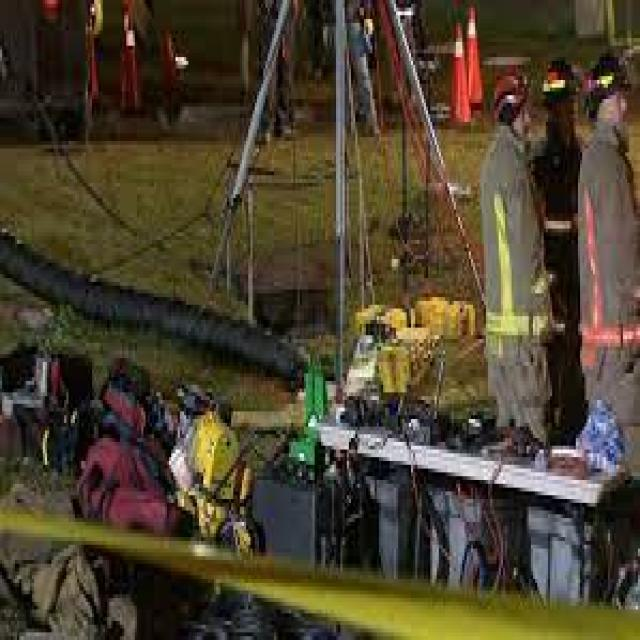Reflective-Jacket: (471, 130, 554, 370)
Safety-Helmet: (487, 70, 531, 117)
